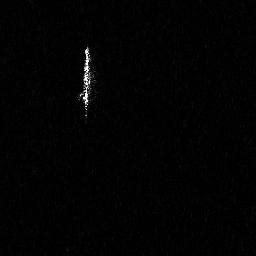ship: (77, 45, 93, 118)
